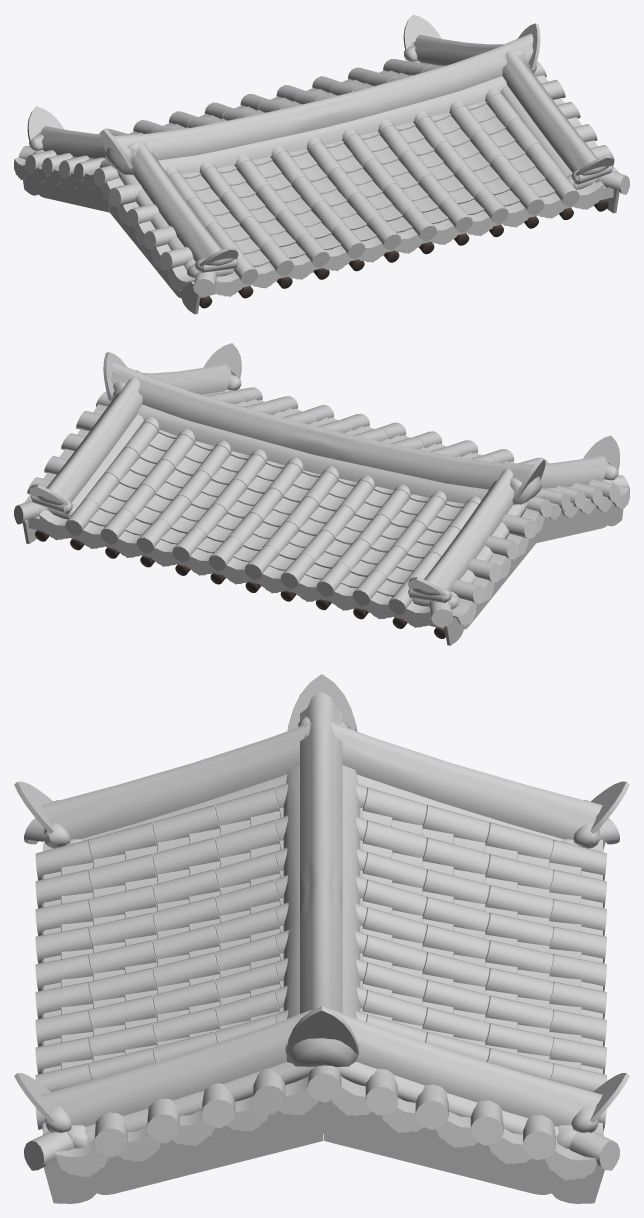
The model's file is SM_Roof_14.FBX.
The picture shows the model from 3 angles, top to bottom: view 1: azimuth 30°, elevation 25°; view 2: azimuth 150°, elevation 25°; view 3: azimuth 270°, elevation 25°; orthographic projection. The views are drawn at different scales.
Parts seen in each view (by area): view 1: SM_Roof_14; view 2: SM_Roof_14; view 3: SM_Roof_14.
Part boxes in pixels (<box>): SM_Roof_14: <box>14,14,629,314</box>; SM_Roof_14: <box>14,343,629,645</box>; SM_Roof_14: <box>14,674,629,1203</box>.
Size of the model in its own units: 668 by 179 by 498.
